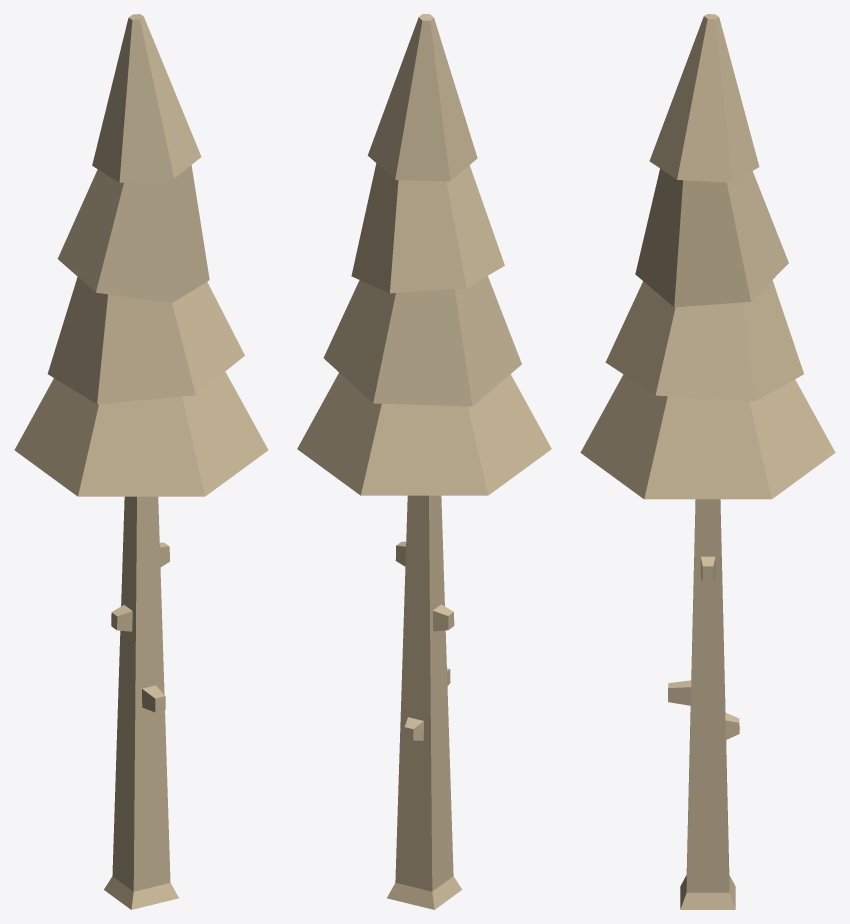
The model's file is naturePack_160.fbx.
3 views of the same model, side by side, from view 1: azimuth 30°, elevation 25°; view 2: azimuth 150°, elevation 25°; view 3: azimuth 270°, elevation 25° (orthographic).
Visible parts, largest first — view 1: naturePack_160; view 2: naturePack_160; view 3: naturePack_160.
Boxes of the visible parts, x1,y1,x2,y2 form: naturePack_160: (14, 14, 268, 909); naturePack_160: (297, 14, 551, 909); naturePack_160: (580, 14, 835, 909).
Bounding box in the file's own units: 192 × 845 × 222.
